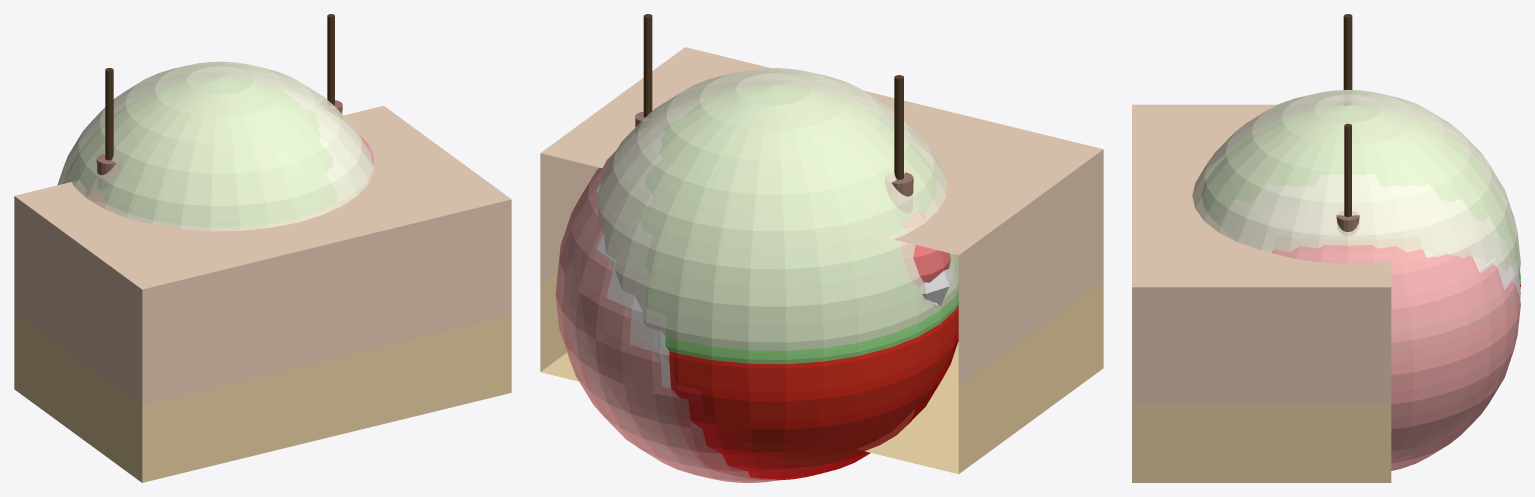
File: condition.glb
The picture shows the model from 3 angles, left to right: view 1: azimuth 30°, elevation 25°; view 2: azimuth 150°, elevation 25°; view 3: azimuth 270°, elevation 25°; orthographic projection. The views are drawn at different scales.
Visible parts, largest first — view 1: SkinLayer_Dermis, Blob_Pus, Cloud_Bacteria, Cluster_Neutrophils, HairStrand, NormalFollicle_Hair, Follicle_Left; view 2: Cloud_Bacteria, Blob_Pus, SkinLayer_Dermis, RedHalo_Inflammation, CTLs, Cluster_Neutrophils, Mesh_Scar, Inflam_Halo, HairStrand, NormalFollicle_Hair, Follicle_Left, NeutrophilEmitter; view 3: SkinLayer_Dermis, Blob_Pus, Cluster_Neutrophils, CTLs, Cloud_Bacteria, HairStrand, NormalFollicle_Hair, Follicle_Right.
Boxes of the visible parts, x1,y1,x2,y2 form: SkinLayer_Dermis: (14, 105, 511, 482); Blob_Pus: (57, 61, 373, 231); Cloud_Bacteria: (64, 78, 337, 226); Cluster_Neutrophils: (279, 88, 373, 201); HairStrand: (105, 68, 113, 160); NormalFollicle_Hair: (327, 14, 334, 105); Follicle_Left: (96, 154, 121, 189); Cloud_Bacteria: (640, 86, 958, 465); Blob_Pus: (595, 68, 958, 350); SkinLayer_Dermis: (540, 47, 1103, 474); RedHalo_Inflammation: (662, 305, 958, 480); CTLs: (555, 141, 833, 482); Cluster_Neutrophils: (564, 98, 710, 469); Mesh_Scar: (666, 294, 957, 363); Inflam_Halo: (902, 212, 950, 286); HairStrand: (894, 75, 903, 179); NormalFollicle_Hair: (643, 14, 652, 117); Follicle_Left: (885, 172, 913, 212); NeutrophilEmitter: (920, 266, 952, 307); SkinLayer_Dermis: (1132, 104, 1391, 482); Blob_Pus: (1192, 90, 1520, 280); Cluster_Neutrophils: (1215, 174, 1520, 458); CTLs: (1271, 236, 1520, 470); Cloud_Bacteria: (1202, 106, 1520, 283); HairStrand: (1343, 14, 1352, 104); NormalFollicle_Hair: (1344, 123, 1351, 216); Follicle_Right: (1336, 211, 1359, 235).
Size of the model in its own units: 5 by 4.85 by 4.5.
